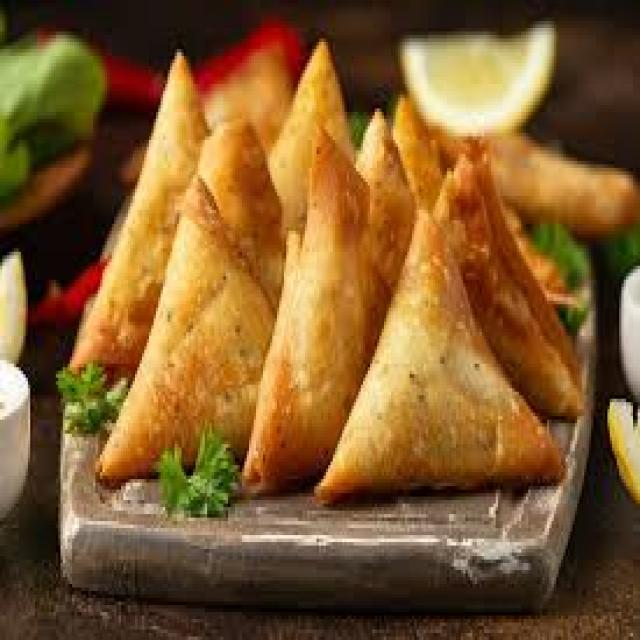SAMOSA: (317, 210, 559, 493), (244, 129, 386, 490), (100, 178, 272, 476), (70, 56, 205, 374), (435, 150, 575, 416), (270, 42, 351, 227), (198, 122, 279, 304), (356, 108, 412, 287)
